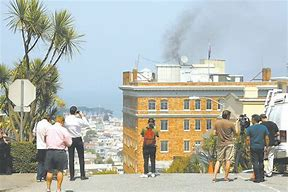smoke: (154, 9, 205, 62)
